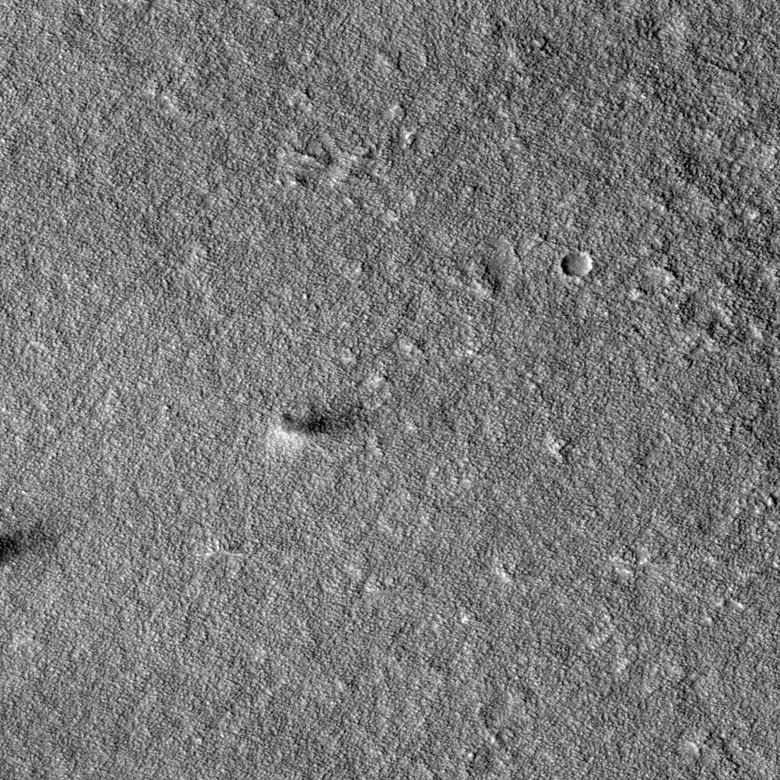dust_devil: (269, 403, 369, 449)
